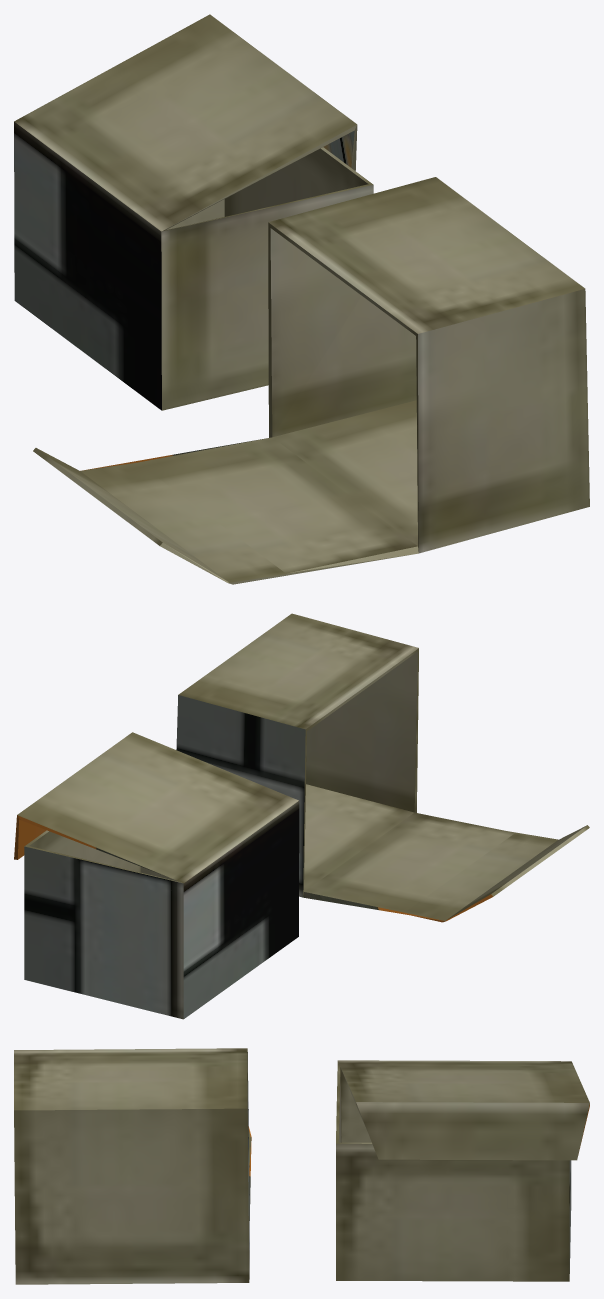
The model's file is Rue_Cartons.obj.
3 views of the same model, one above another, from view 1: azimuth 30°, elevation 25°; view 2: azimuth 150°, elevation 25°; view 3: azimuth 270°, elevation 25° (orthographic). The views are drawn at different scales.
Parts seen in each view (by area): view 1: Rue_Cartons; view 2: Rue_Cartons; view 3: Rue_Cartons.
Boxes of the visible parts, x1,y1,x2,y2 form: Rue_Cartons: (14, 14, 589, 584); Rue_Cartons: (14, 613, 589, 1019); Rue_Cartons: (14, 1048, 589, 1284).
Bounding box in the file's own units: 0.2208 × 0.1179 × 0.34.
1 material, 1 textured.
